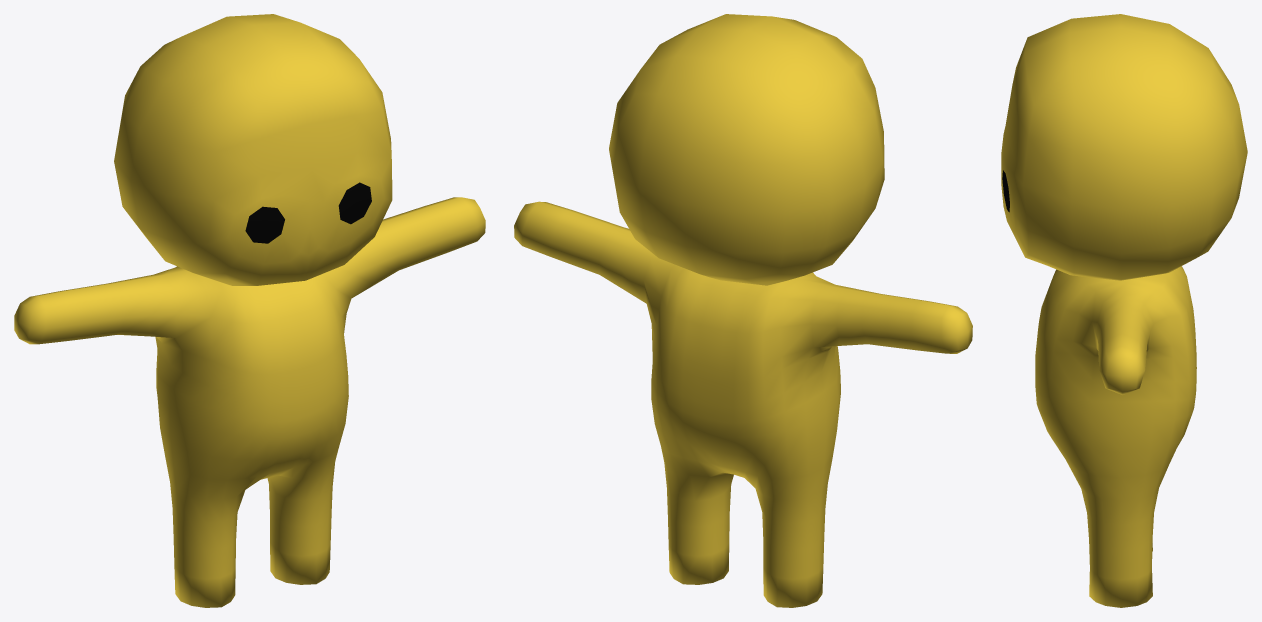
File: Karakter Kuning.fbx
3 views of the same model, side by side, from view 1: azimuth 30°, elevation 25°; view 2: azimuth 150°, elevation 25°; view 3: azimuth 270°, elevation 25° (orthographic). The views are drawn at different scales.
Visible parts, largest first — view 1: CHA 01.001; view 2: CHA 01.001; view 3: CHA 01.001.
Part boxes in pixels (<box>): CHA 01.001: <box>14,14,485,607</box>; CHA 01.001: <box>514,14,972,607</box>; CHA 01.001: <box>1001,14,1247,607</box>.
Size of the model in its own units: 107 by 125 by 51.13.
